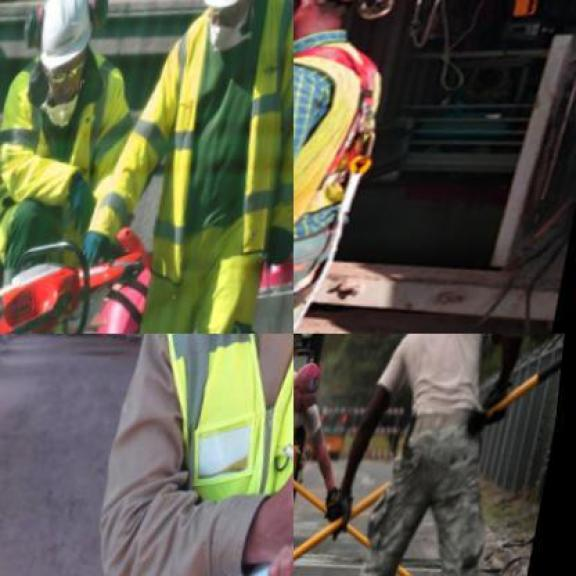safety_vest: (111, 7, 292, 316), (132, 334, 292, 520), (294, 28, 408, 278), (0, 64, 136, 267)
